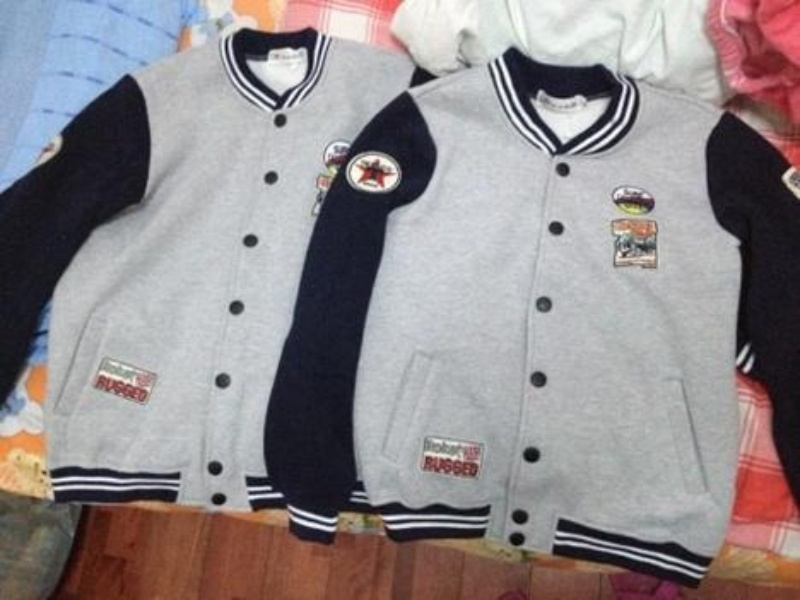long_sleeved_shirt: (255, 43, 798, 598), (5, 15, 474, 549)
